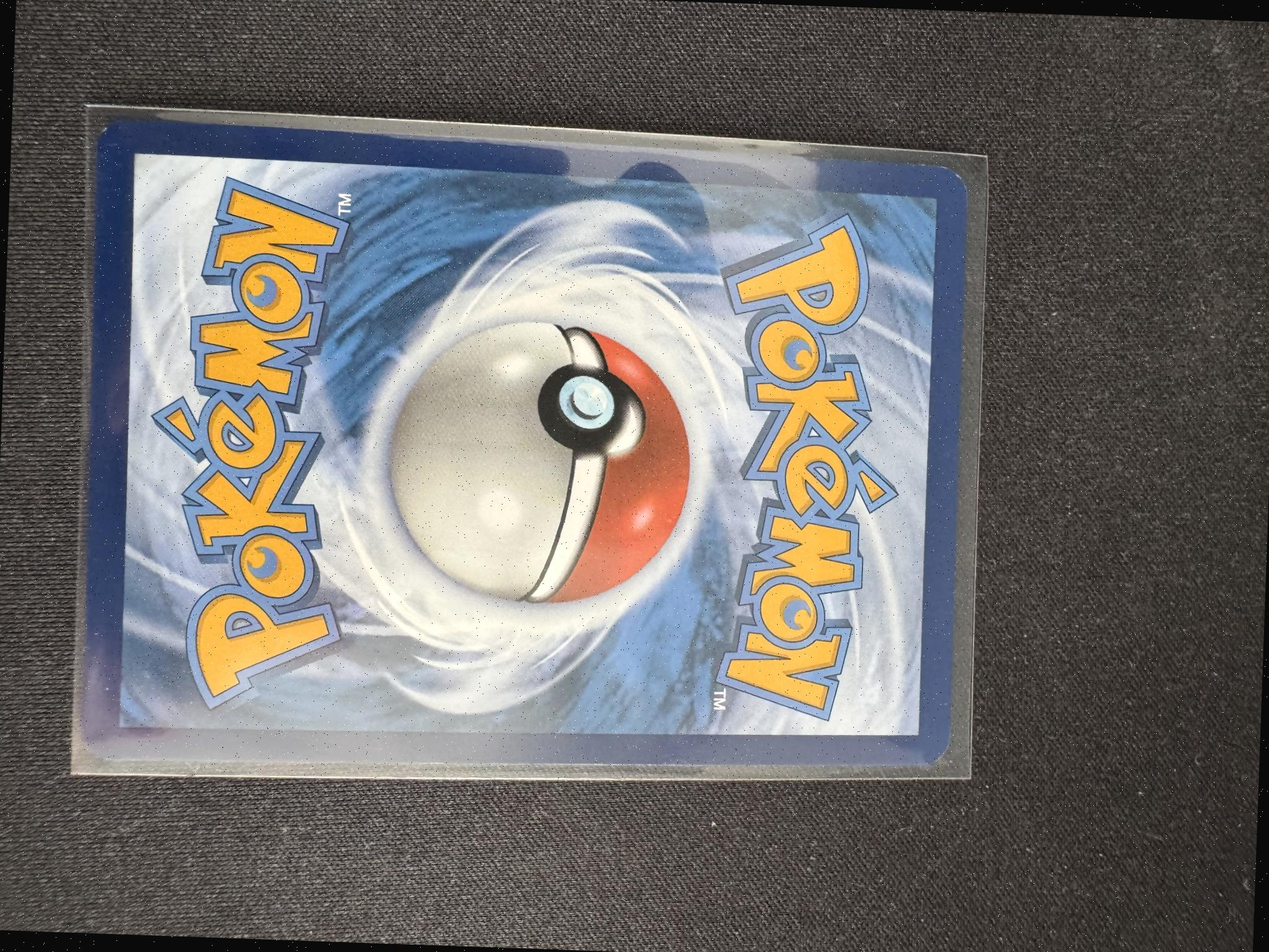card-2UtV: (82, 120, 968, 766)
